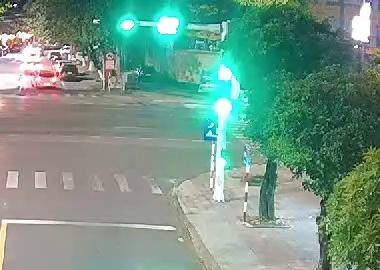green_light: (155, 13, 181, 38), (214, 84, 233, 117), (117, 16, 138, 34)
stop_line: (3, 219, 175, 230)
